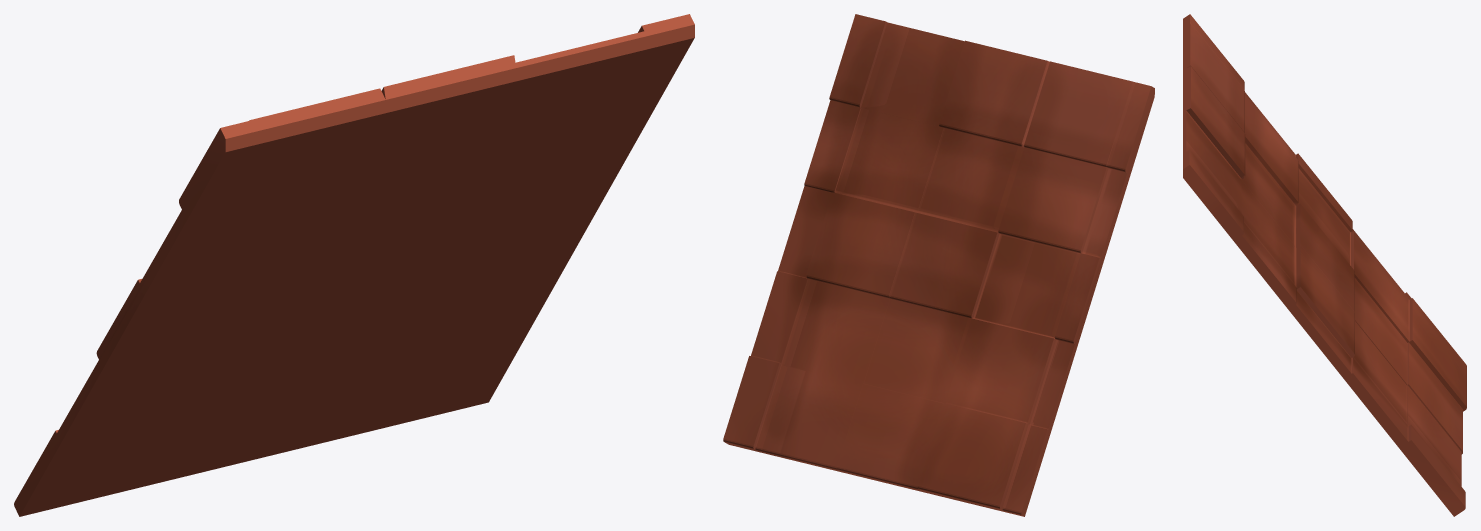
Rendered from Roof 1.fbx.
The picture shows the model from 3 angles, left to right: view 1: azimuth 30°, elevation 25°; view 2: azimuth 150°, elevation 25°; view 3: azimuth 270°, elevation 25°; orthographic projection. The views are drawn at different scales.
Visible parts, largest first — view 1: Roof 1; view 2: Roof 1; view 3: Roof 1.
Boxes of the visible parts, x1,y1,x2,y2 form: Roof 1: (14, 14, 694, 516); Roof 1: (723, 14, 1154, 516); Roof 1: (1183, 14, 1466, 516).
Bounding box in the file's own units: 258 × 282 × 205.
Materials: 1 (1 with a texture image).
